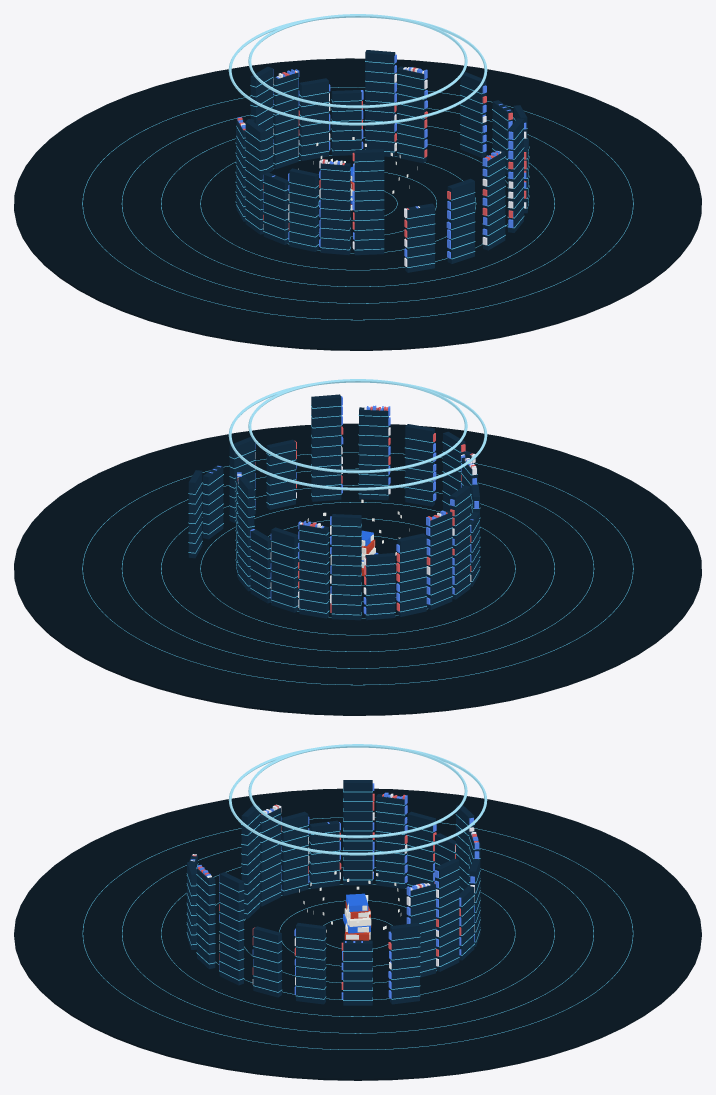
The model's file is env_tablet.glb.
3 renders of one model, top to bottom at view 1: azimuth 30°, elevation 25°; view 2: azimuth 150°, elevation 25°; view 3: azimuth 270°, elevation 25°, orthographic.
Visible parts, largest first — view 1: env_floor, env_shelf, env_shelf_edge, env_dome, env_spine_b, env_spine_r, env_spine_w; view 2: env_floor, env_shelf, env_shelf_edge, env_dome, env_spine_b, env_spine_r, env_spine_w; view 3: env_floor, env_shelf, env_shelf_edge, env_dome, env_spine_b, env_spine_r, env_spine_w.
Part boxes in pixels (x1,y1,x2,y2): env_floor: [14, 58, 701, 350]; env_shelf: [236, 50, 528, 272]; env_shelf_edge: [82, 61, 633, 320]; env_dome: [228, 14, 487, 125]; env_spine_b: [237, 54, 526, 258]; env_spine_r: [237, 67, 526, 239]; env_spine_w: [241, 67, 526, 266]; env_floor: [14, 423, 701, 715]; env_shelf: [188, 394, 479, 620]; env_shelf_edge: [82, 405, 633, 685]; env_dome: [228, 379, 487, 490]; env_spine_b: [209, 396, 478, 614]; env_spine_r: [237, 406, 475, 612]; env_spine_w: [237, 407, 476, 607]; env_floor: [14, 788, 701, 1080]; env_shelf: [187, 780, 480, 1005]; env_shelf_edge: [82, 789, 633, 1049]; env_dome: [228, 744, 487, 855]; env_spine_b: [191, 783, 479, 999]; env_spine_r: [192, 793, 478, 989]; env_spine_w: [190, 793, 476, 985].
Bounding box in the file's own units: 140 × 32.66 × 140.
3 materials, 3 textured.
